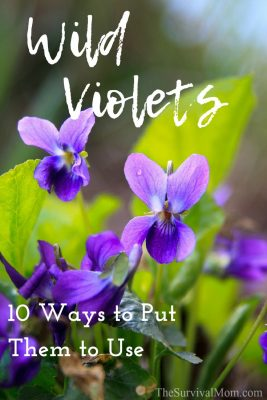violet: (110, 145, 220, 266), (19, 108, 98, 207)
